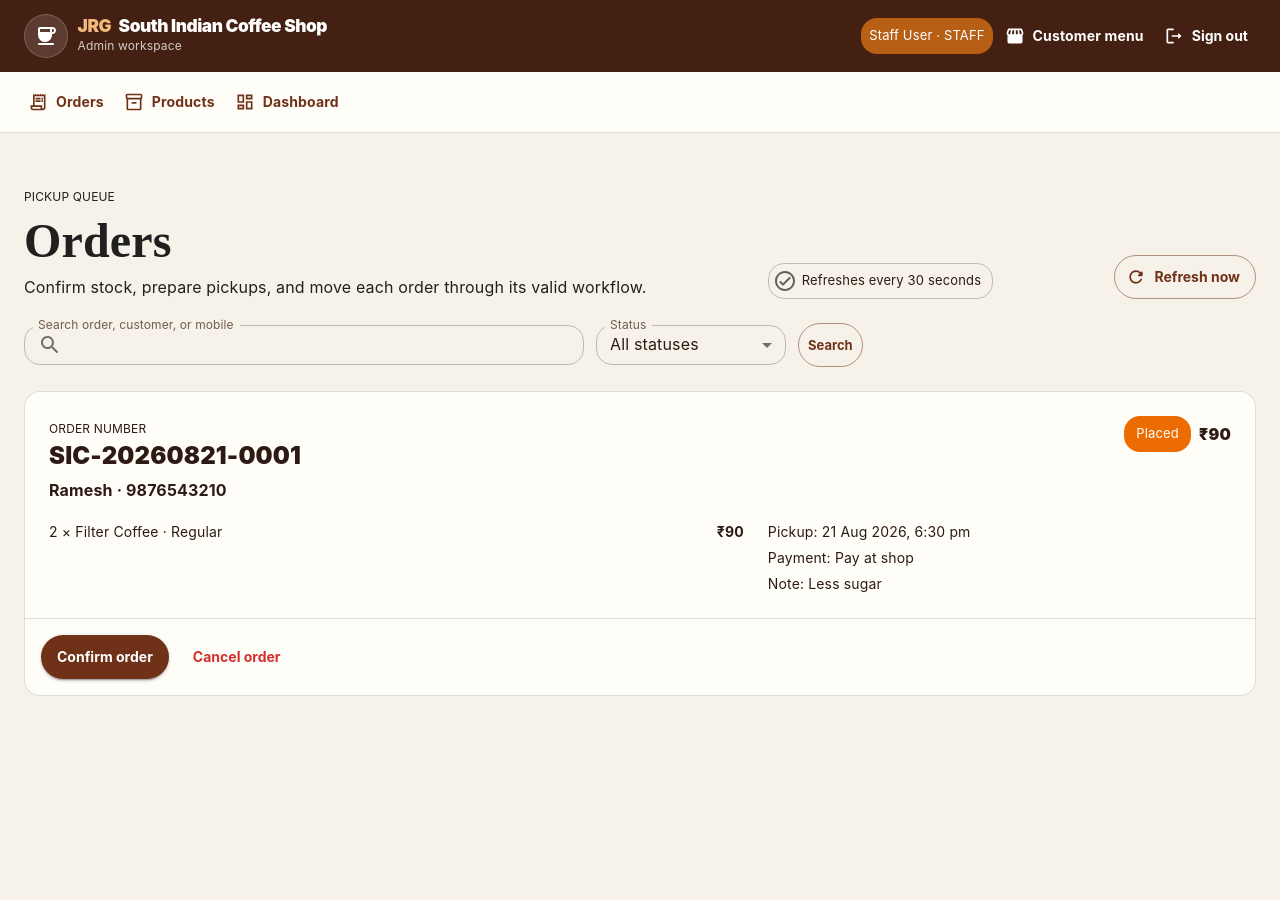
it: admin order management › reports an insufficient-stock conflict without advancing the order
The width and height of the screenshot is (1280, 900).
Click the button "Confirm order": [105, 657] box [41,635,169,679]
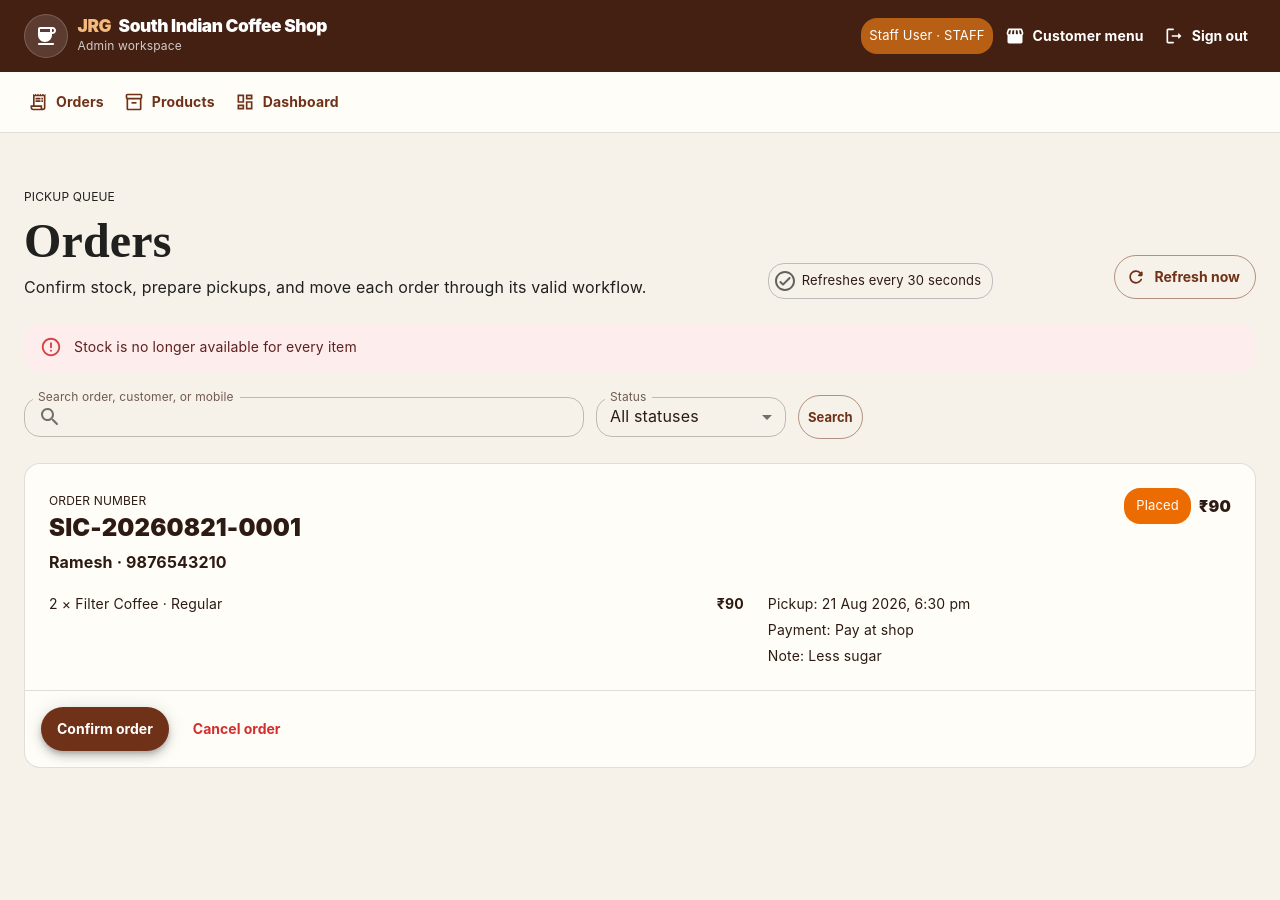
Expected: the text "Stock is no longer available for every item" is shown, [74,338,357,355]
